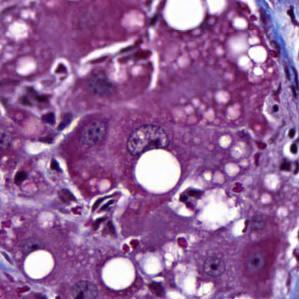inflammation: (84, 185, 127, 219), (176, 184, 203, 211)
